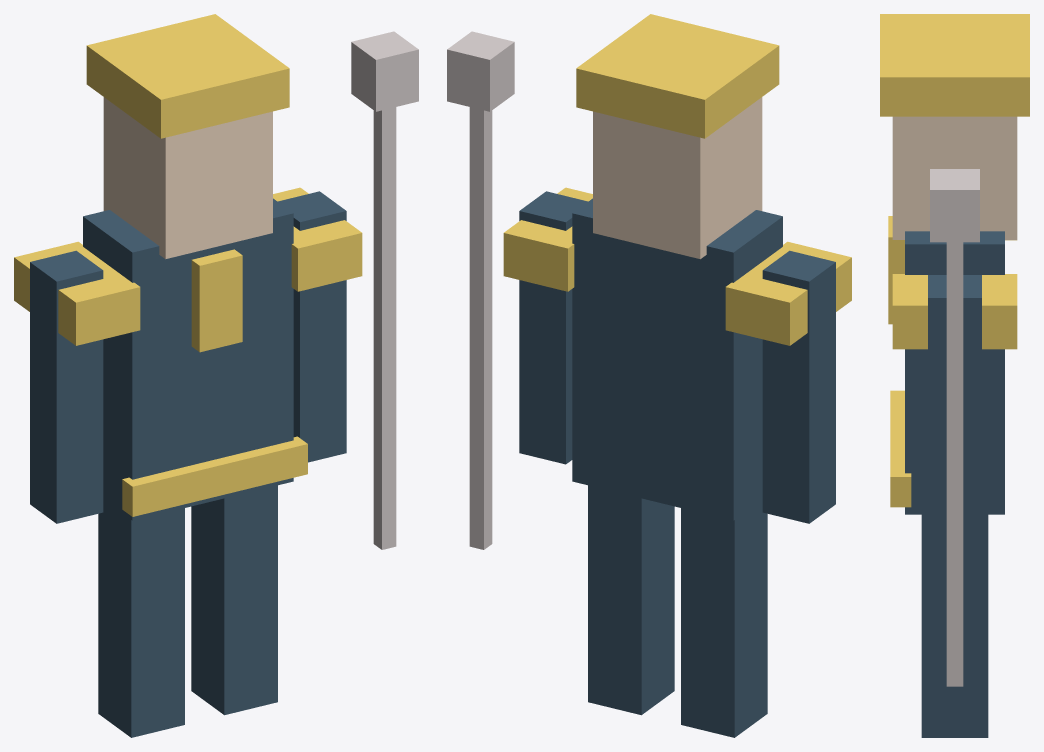
Rendered from 02_mirek_nullborne_navigator_under_prize.glb.
The picture shows the model from 3 angles, left to right: view 1: azimuth 30°, elevation 25°; view 2: azimuth 150°, elevation 25°; view 3: azimuth 270°, elevation 25°; orthographic projection.
Visible parts, largest first — view 1: Mirek Nullborne, Navigator under Prize; view 2: Mirek Nullborne, Navigator under Prize; view 3: Mirek Nullborne, Navigator under Prize.
Part boxes in pixels (bbox=[...]): Mirek Nullborne, Navigator under Prize: bbox=[14, 14, 418, 737]; Mirek Nullborne, Navigator under Prize: bbox=[447, 14, 851, 737]; Mirek Nullborne, Navigator under Prize: bbox=[880, 14, 1029, 737].
Size of the model in its own units: 0.944 by 1.62 by 0.3348.
